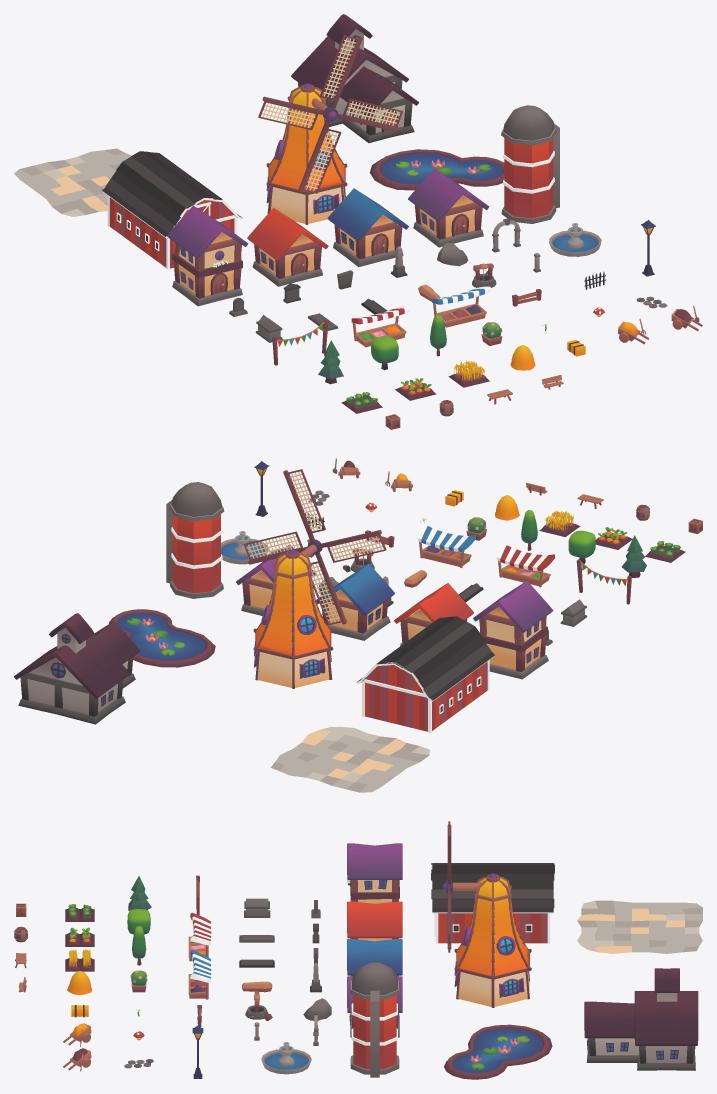
File: Village.glb
3 renders of one model, top to bottom at view 1: azimuth 30°, elevation 25°; view 2: azimuth 150°, elevation 25°; view 3: azimuth 270°, elevation 25°, orthographic. The views are drawn at different scales.
Parts seen in each view (by area): view 1: Windmill_Material.005_0, Barn_Material.005_0, Chapel_Material.005_0, Sphere.001_Material.005_0, House_2Story_Purple_Material.005_0, Plane.004_Material.005_0, House_Red_Material.005_0, House_Purple_Material.005_0, House_Blue_Material.005_0, Pond_Material.005_0, Market Stall Blue_Material.005_0, Fountain_Material.005_0 (+3 smaller); view 2: Windmill_Material.005_0, Barn_Material.005_0, Chapel_Material.005_0, Plane.004_Material.005_0, Sphere.001_Material.005_0, House_2Story_Purple_Material.005_0, Pond_Material.005_0, House_Blue_Material.005_0, House_Red_Material.005_0, Market Stall Blue_Material.005_0, Market Stall Red_Material.005_0, House_Purple_Material.005_0 (+7 smaller); view 3: Chapel_Material.005_0, Windmill_Material.005_0, Barn_Material.005_0, Plane.004_Material.005_0, Sphere.001_Material.005_0, Pond_Material.005_0, House_2Story_Purple_Material.005_0, House_Red_Material.005_0, House_Blue_Material.005_0, Fountain_Material.005_0, Market Stall Blue_Material.005_0, Market Stall Red_Material.005_0 (+10 smaller).
Boxes of the visible parts, x1,y1,x2,y2 form: Windmill_Material.005_0: [258, 35, 403, 224]; Barn_Material.005_0: [102, 151, 242, 269]; Chapel_Material.005_0: [291, 14, 418, 142]; Sphere.001_Material.005_0: [501, 105, 559, 223]; House_2Story_Purple_Material.005_0: [167, 205, 248, 306]; Plane.004_Material.005_0: [14, 148, 131, 216]; House_Red_Material.005_0: [247, 207, 328, 286]; House_Purple_Material.005_0: [408, 168, 489, 247]; House_Blue_Material.005_0: [327, 188, 408, 267]; Pond_Material.005_0: [369, 149, 504, 190]; Market Stall Blue_Material.005_0: [432, 286, 491, 327]; Fountain_Material.005_0: [549, 223, 601, 256]; Windmill_Material.005_0: [243, 469, 386, 688]; Barn_Material.005_0: [356, 616, 495, 732]; Chapel_Material.005_0: [14, 613, 139, 724]; Plane.004_Material.005_0: [270, 726, 429, 792]; Sphere.001_Material.005_0: [166, 482, 224, 598]; House_2Story_Purple_Material.005_0: [473, 580, 553, 679]; Pond_Material.005_0: [109, 609, 215, 667]; House_Blue_Material.005_0: [316, 564, 394, 640]; House_Red_Material.005_0: [394, 583, 473, 646]; Market Stall Blue_Material.005_0: [417, 522, 475, 567]; Market Stall Red_Material.005_0: [496, 542, 554, 587]; House_Purple_Material.005_0: [236, 545, 315, 615]; Chapel_Material.005_0: [584, 968, 698, 1070]; Windmill_Material.005_0: [442, 821, 531, 1007]; Barn_Material.005_0: [431, 863, 554, 943]; Plane.004_Material.005_0: [577, 900, 702, 953]; Sphere.001_Material.005_0: [350, 962, 399, 1077]; Pond_Material.005_0: [444, 1024, 552, 1079]; House_2Story_Purple_Material.005_0: [346, 843, 402, 903]; House_Red_Material.005_0: [347, 901, 402, 941]; House_Blue_Material.005_0: [347, 939, 402, 976]; Fountain_Material.005_0: [261, 1042, 311, 1074]; Market Stall Blue_Material.005_0: [188, 950, 211, 999]; Market Stall Red_Material.005_0: [188, 912, 211, 961].
Bounding box in the file's own units: 14.37 × 6.63 × 23.37.
Materials: 1 (1 with a texture image).
